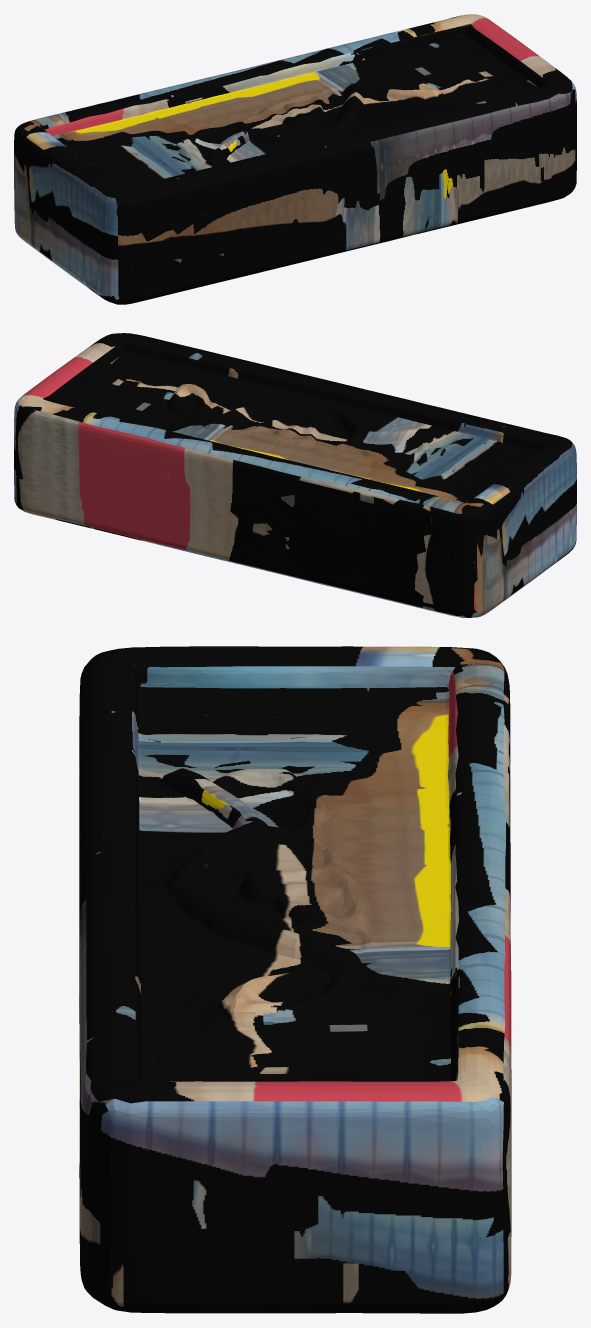
Rendered from flat_eraser.obj.
3 renders of one model, top to bottom at view 1: azimuth 30°, elevation 25°; view 2: azimuth 150°, elevation 25°; view 3: azimuth 270°, elevation 25°, orthographic. The views are drawn at different scales.
Visible parts, largest first — view 1: geometry_0; view 2: geometry_0; view 3: geometry_0.
Part boxes in pixels (x1=…): geometry_0: x1=14, y1=14, x2=576, y2=304; geometry_0: x1=14, y1=333, x2=576, y2=617; geometry_0: x1=79, y1=646, x2=511, y2=1313.
Bounding box in the file's own units: 0.125 × 0.0283 × 0.0496.
